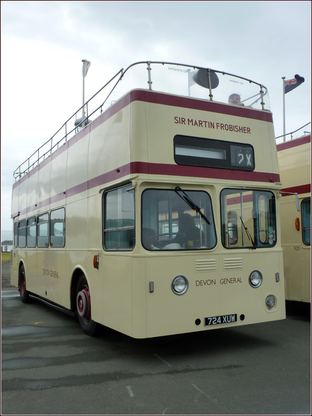bus: (9, 57, 300, 342), (154, 117, 312, 304)
